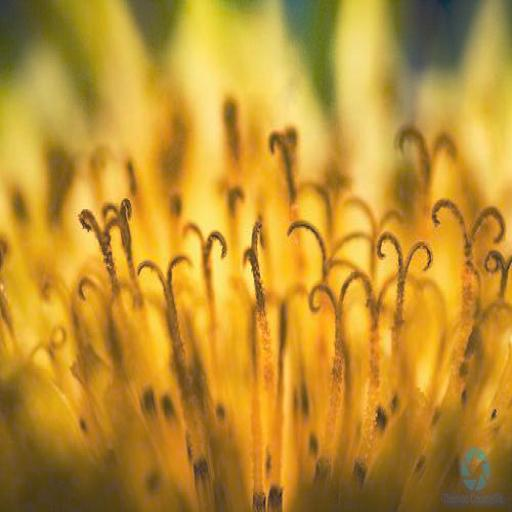daisy: (1, 0, 511, 512)
